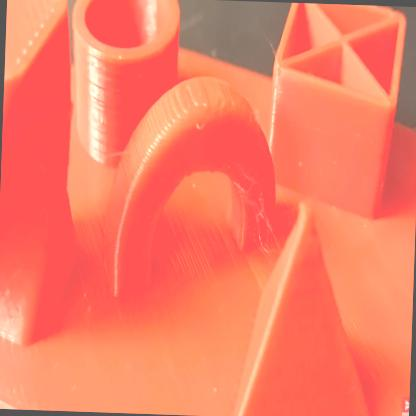fail: (243, 192, 287, 272)
